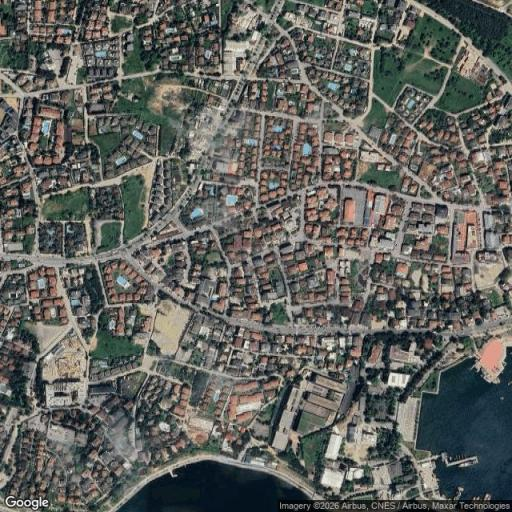ship: (481, 369, 499, 384), (458, 460, 478, 467), (481, 494, 489, 509), (480, 374, 492, 384), (471, 496, 480, 509), (470, 496, 476, 505)
